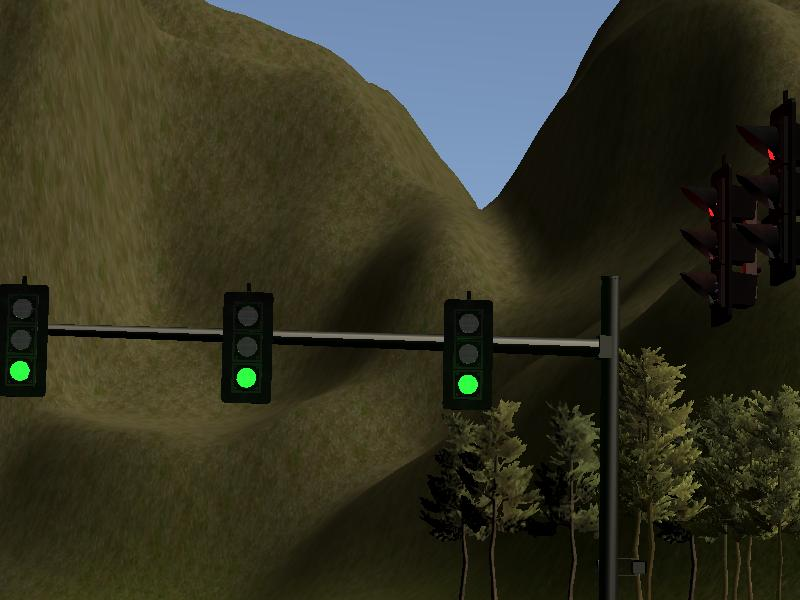not_red: (443, 298, 492, 412), (224, 289, 271, 403), (3, 284, 50, 396)
